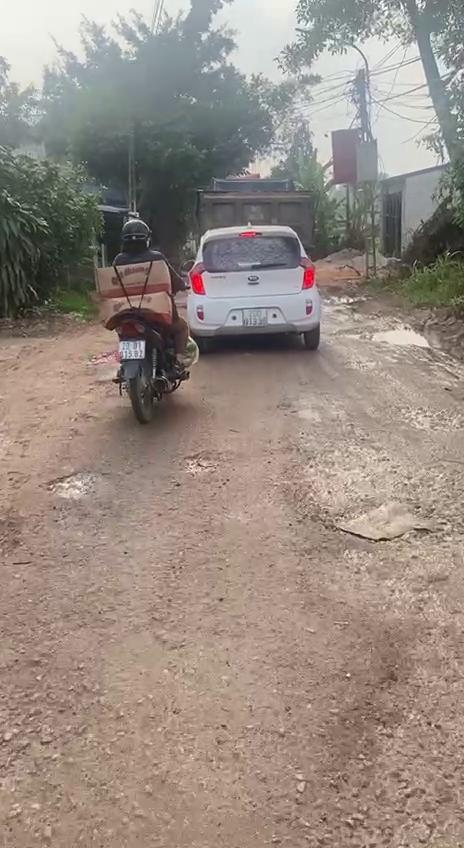pothole: (39, 468, 109, 504), (334, 326, 428, 350), (181, 452, 218, 478)
